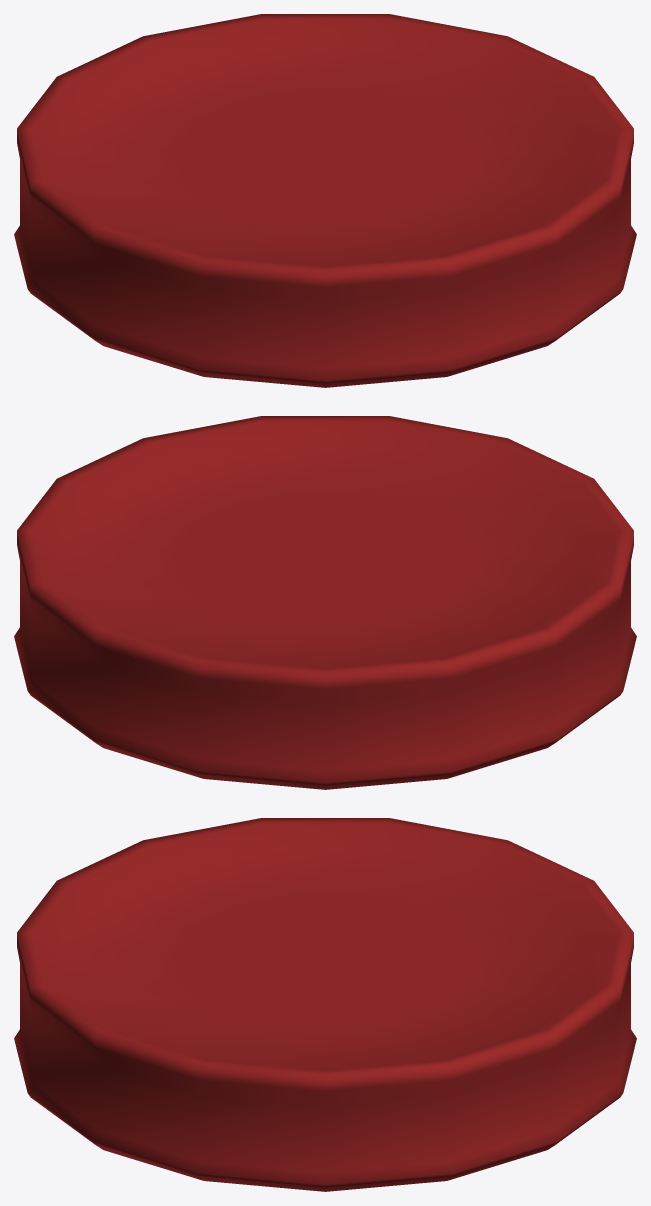
The picture shows the model from 3 angles, top to bottom: view 1: azimuth 30°, elevation 25°; view 2: azimuth 150°, elevation 25°; view 3: azimuth 270°, elevation 25°; orthographic projection.
Visible parts, largest first — view 1: s4_box2_04_low; view 2: s4_box2_04_low; view 3: s4_box2_04_low.
Boxes of the visible parts, x1,y1,x2,y2 form: s4_box2_04_low: [14, 14, 636, 387]; s4_box2_04_low: [14, 416, 636, 789]; s4_box2_04_low: [14, 818, 636, 1191].
Size of the model in its own units: 1.16 by 0.2466 by 1.17.
